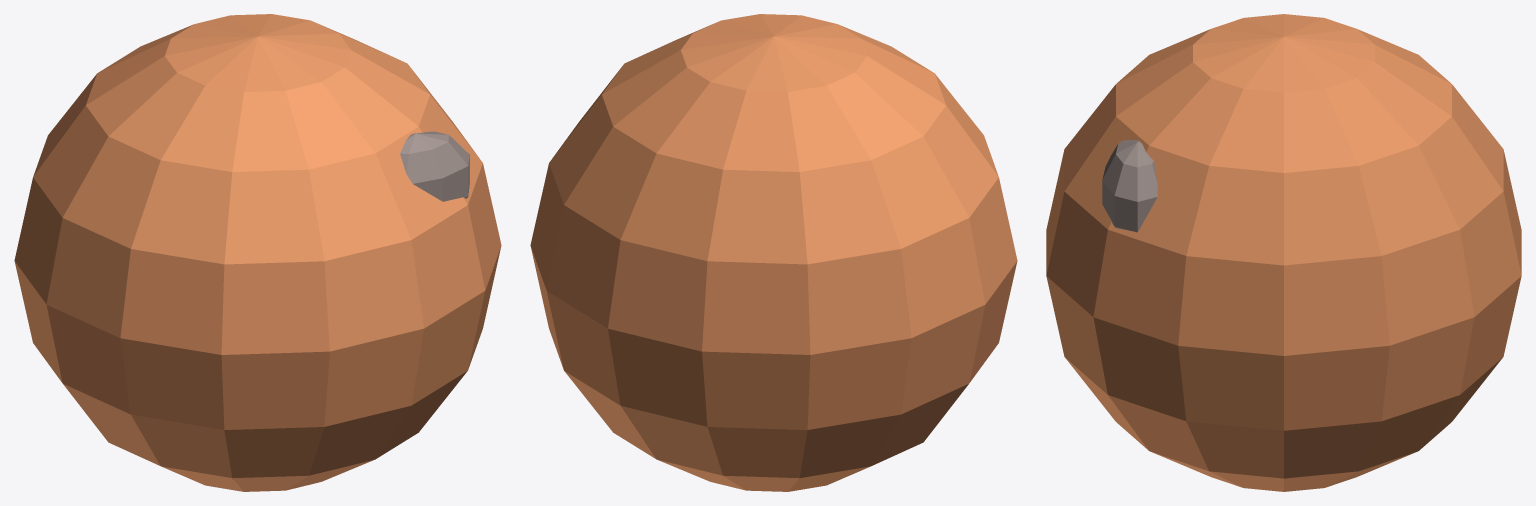
File: roca_sobrecalentada.glb
3 views of the same model, side by side, from view 1: azimuth 30°, elevation 25°; view 2: azimuth 150°, elevation 25°; view 3: azimuth 270°, elevation 25° (orthographic).
Visible parts, largest first — view 1: roca_sobrecalentada; view 2: roca_sobrecalentada; view 3: roca_sobrecalentada.
Boxes of the visible parts, left/top/right/bottom form: roca_sobrecalentada: left=14, top=14, right=501, bottom=491; roca_sobrecalentada: left=530, top=14, right=1017, bottom=491; roca_sobrecalentada: left=1046, top=14, right=1521, bottom=491.
Bounding box in the file's own units: 0.9 × 0.88 × 0.8774.
